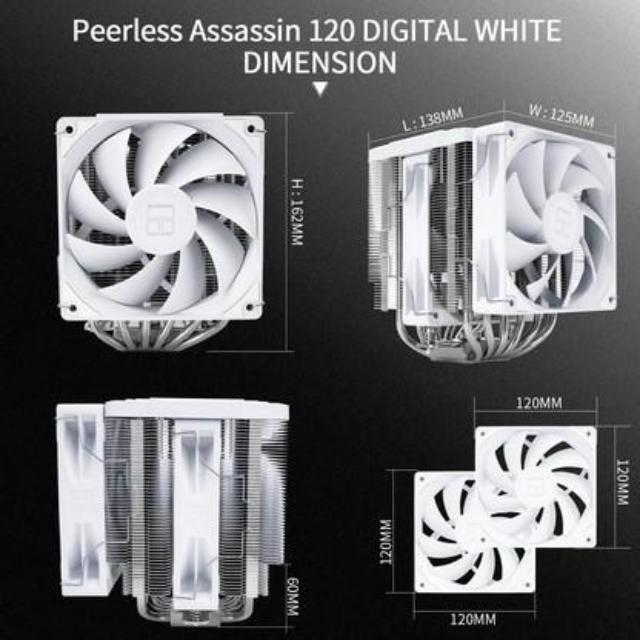CPU_Fan: (368, 120, 616, 362), (58, 397, 284, 632), (56, 116, 262, 350)
